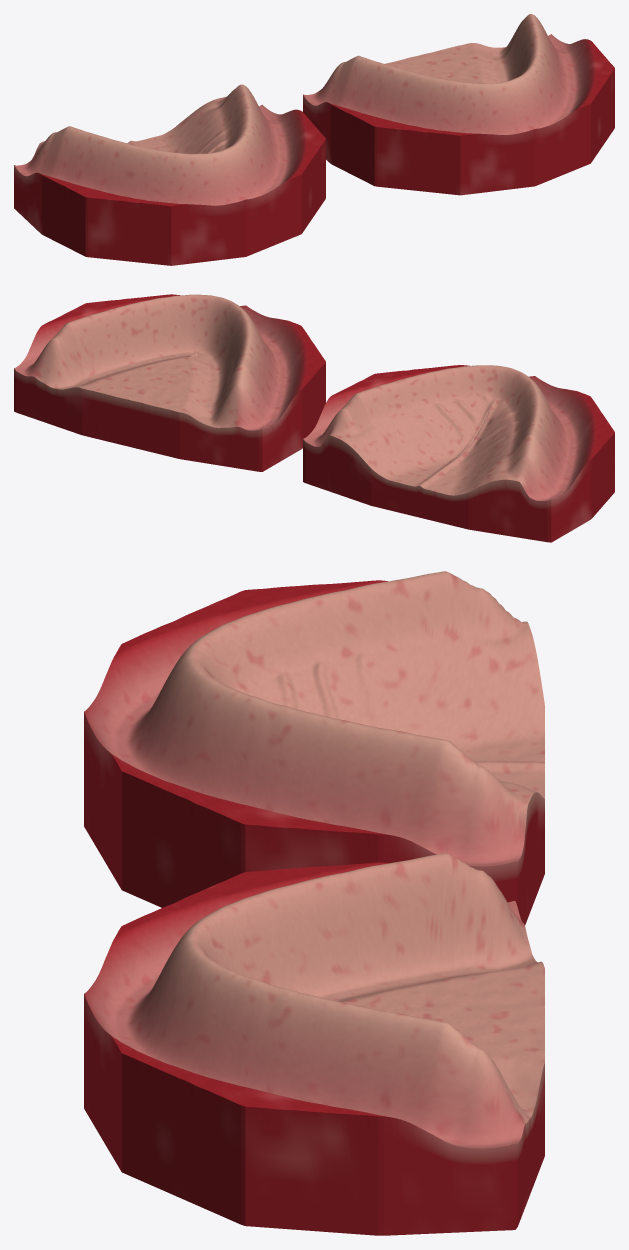
The model's file is estudo-total.glb.
The picture shows the model from 3 angles, top to bottom: view 1: azimuth 30°, elevation 25°; view 2: azimuth 150°, elevation 25°; view 3: azimuth 270°, elevation 25°; orthographic projection. The views are drawn at different scales.
Parts seen in each view (by area): view 1: Base_Inferior, Base_Superior; view 2: Base_Superior, Base_Inferior; view 3: Base_Inferior, Base_Superior.
Part boxes in pixels (x1,y1,x2,y2): Base_Inferior: [303, 14, 614, 195]; Base_Superior: [14, 84, 325, 265]; Base_Superior: [303, 365, 614, 542]; Base_Inferior: [14, 294, 325, 471]; Base_Inferior: [84, 853, 544, 1235]; Base_Superior: [84, 571, 544, 925].
Bounding box in the file's own units: 0.1349 × 0.02 × 0.049.
